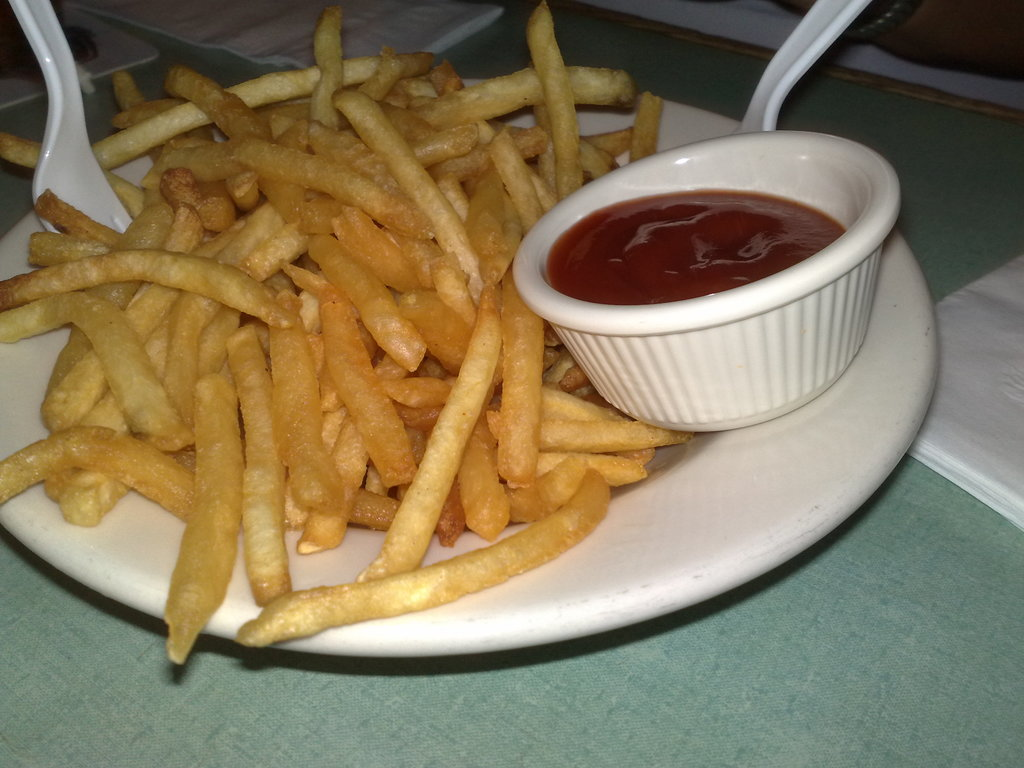French fries: (0, 0, 700, 666)
